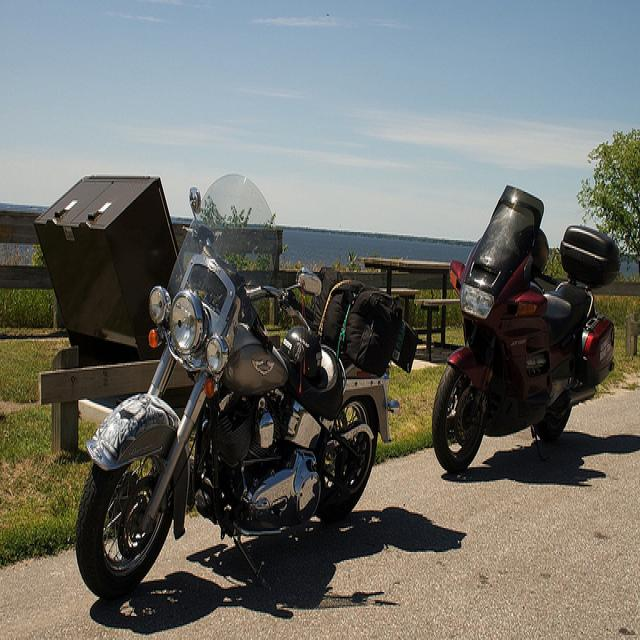motor: (82, 182, 402, 596), (430, 180, 627, 470)
